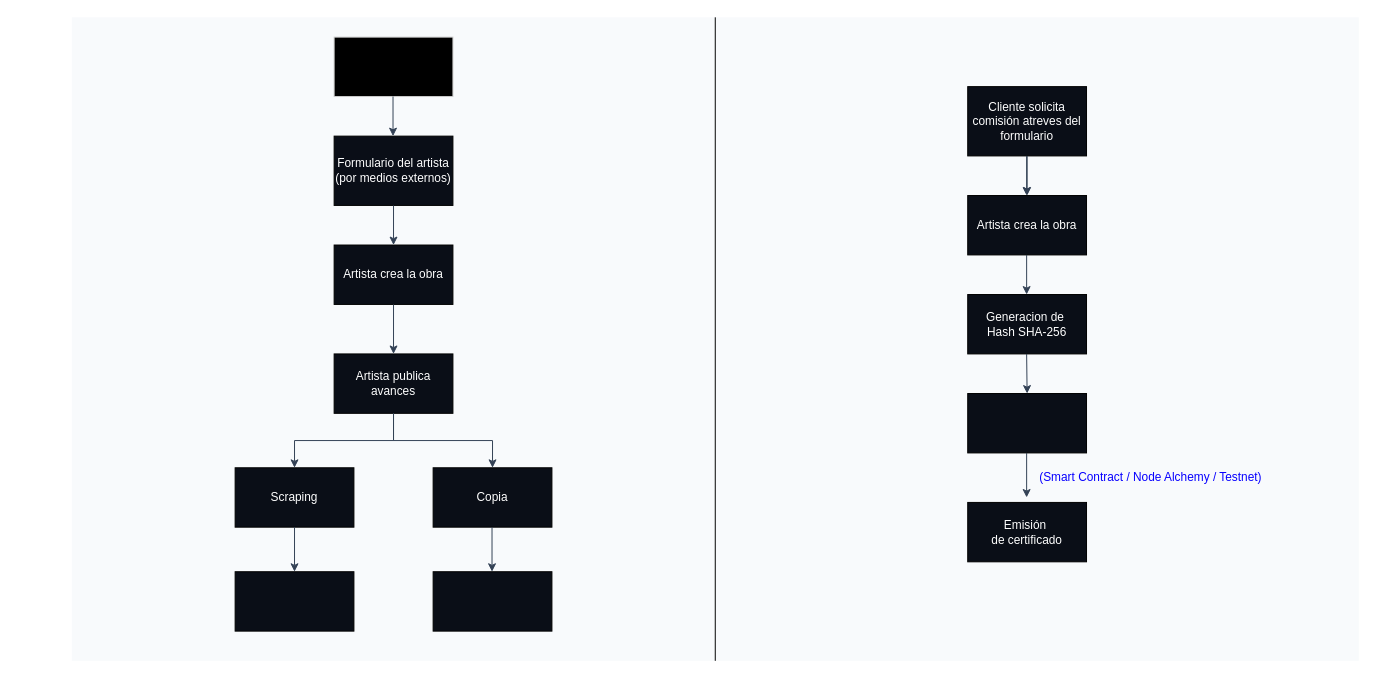
The diagram is 1375 pixels wide and 679 high, and some of its shapes have lost their labels. The centre of each missing label's shape, as x and y in pixels:
Cliente solicita comision: (x=393, y=66)
Entrenamiento de IA: (x=294, y=601)
Reventa / Plagio: (x=492, y=601)
Sellado de tiempo y registro: (x=1027, y=423)
